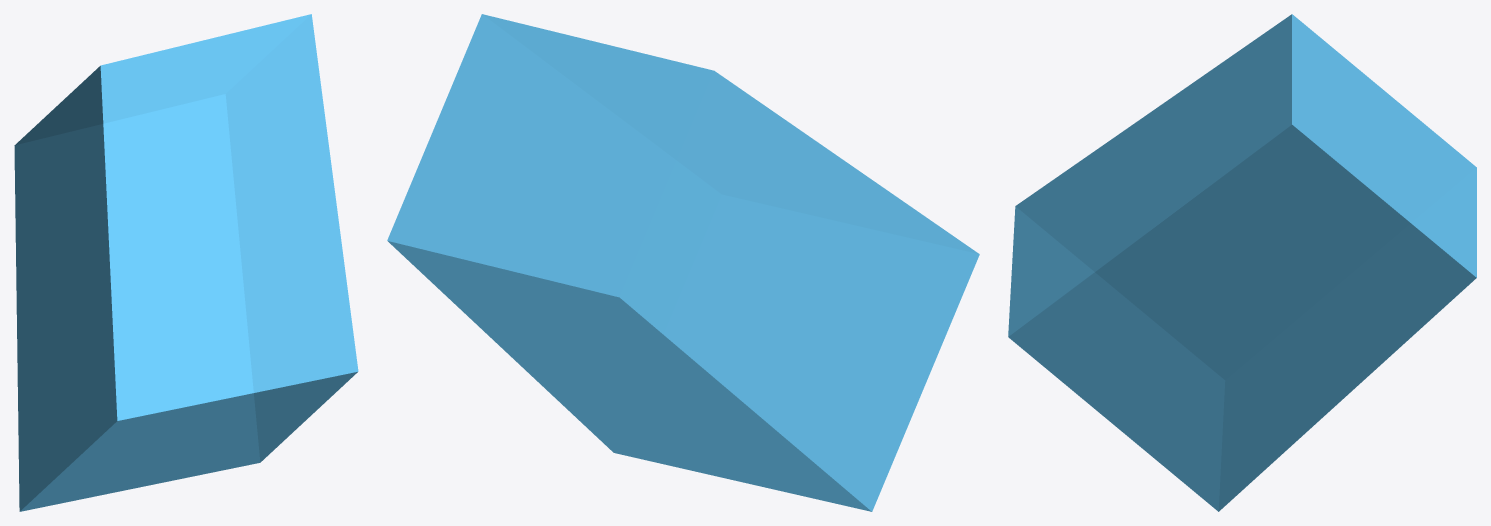
File: Event_421364160_HBrechit_11.fbx
3 renders of one model, left to right at view 1: azimuth 30°, elevation 25°; view 2: azimuth 150°, elevation 25°; view 3: azimuth 270°, elevation 25°, orthographic. The views are drawn at different scales.
Parts seen in each view (by area): view 1: Model; view 2: Model; view 3: Model.
Part boxes in pixels (box(x1,y1,x2,y2)): Model: box(14, 14, 358, 511); Model: box(387, 14, 979, 511); Model: box(1008, 14, 1476, 511).
Bounding box in the file's own units: 0.6423 × 0.7646 × 0.7514.
